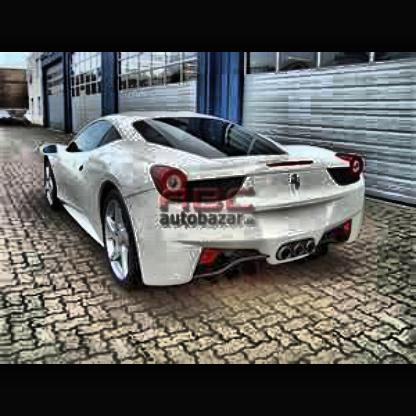Ferrari 458 Italia Coupe 2012: (42, 110, 370, 301)
